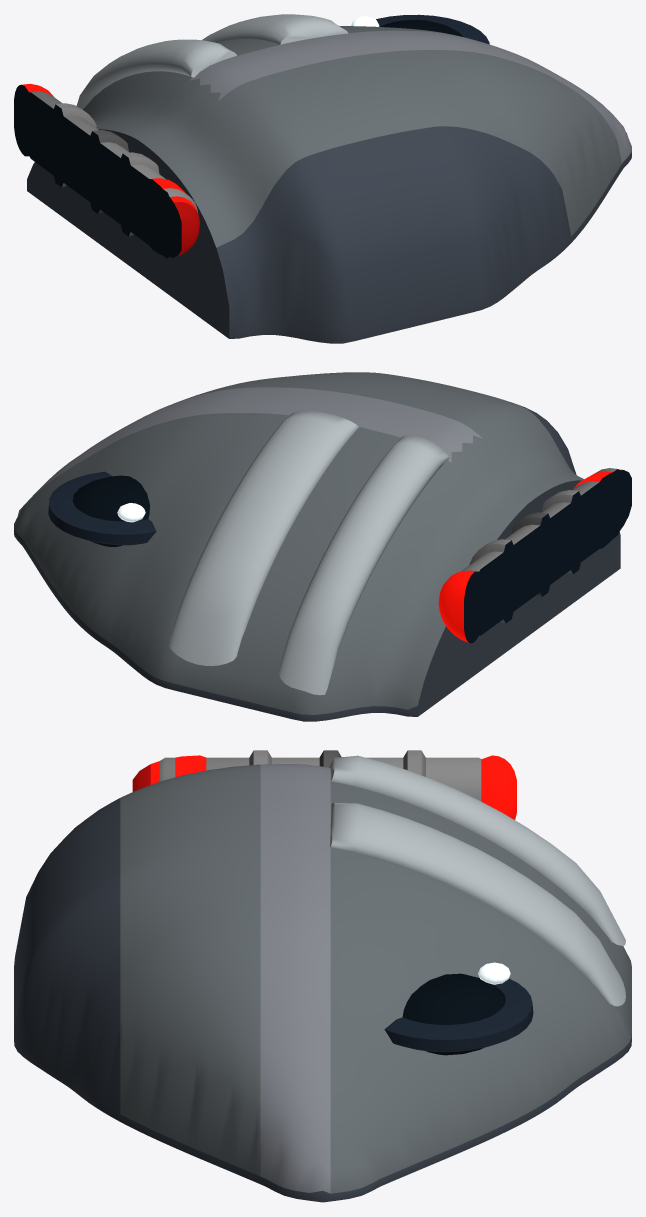
The model's file is hinge_pod_r.glb.
3 views of the same model, one above another, from view 1: azimuth 30°, elevation 25°; view 2: azimuth 150°, elevation 25°; view 3: azimuth 270°, elevation 25° (orthographic). The views are drawn at different scales.
Parts seen in each view (by area): view 1: shell_r.001, hinge.001, rib1_r.001, cap_bottom.001, rib0_r.001, cap_top.001, eye_rim_r.001, hinge_ring2.001, eye_r.001, hinge_ring1.001, hinge_ring0.001; view 2: shell_r.001, rib0_r.001, rib1_r.001, hinge.001, eye_rim_r.001, eye_r.001, cap_top.001, cap_bottom.001, hinge_ring2.001, hinge_ring1.001, hinge_ring0.001; view 3: shell_r.001, rib0_r.001, rib1_r.001, eye_rim_r.001, eye_r.001, hinge.001, cap_top.001, cap_bottom.001.
Boxes of the visible parts, x1,y1,x2,y2 form: shell_r.001: (27, 26, 631, 343); hinge.001: (28, 91, 197, 258); rib1_r.001: (76, 39, 237, 109); cap_bottom.001: (147, 178, 199, 257); rib0_r.001: (201, 14, 348, 44); cap_top.001: (14, 83, 53, 156); eye_rim_r.001: (376, 14, 489, 44); hinge_ring2.001: (120, 152, 159, 236); eye_r.001: (380, 20, 463, 36); hinge_ring1.001: (90, 130, 128, 214); hinge_ring0.001: (54, 103, 96, 187); shell_r.001: (14, 372, 620, 721); rib0_r.001: (169, 411, 358, 665); rib1_r.001: (278, 435, 449, 695); hinge.001: (461, 468, 620, 635); eye_rim_r.001: (48, 471, 156, 545); eye_r.001: (72, 475, 149, 546); cap_top.001: (438, 570, 479, 643); cap_bottom.001: (573, 469, 631, 548); hinge_ring2.001: (542, 490, 580, 574); hinge_ring1.001: (511, 512, 549, 596); hinge_ring0.001: (469, 539, 513, 623); shell_r.001: (14, 764, 631, 1202); rib0_r.001: (330, 802, 625, 1006); rib1_r.001: (329, 755, 625, 945); eye_rim_r.001: (384, 978, 533, 1052); eye_r.001: (402, 973, 505, 1055); hinge.001: (159, 757, 481, 800); cap_top.001: (481, 755, 516, 819); cap_bottom.001: (132, 755, 206, 791).
Bounding box in the file's own units: 17.95 × 6.12 × 15.86.
